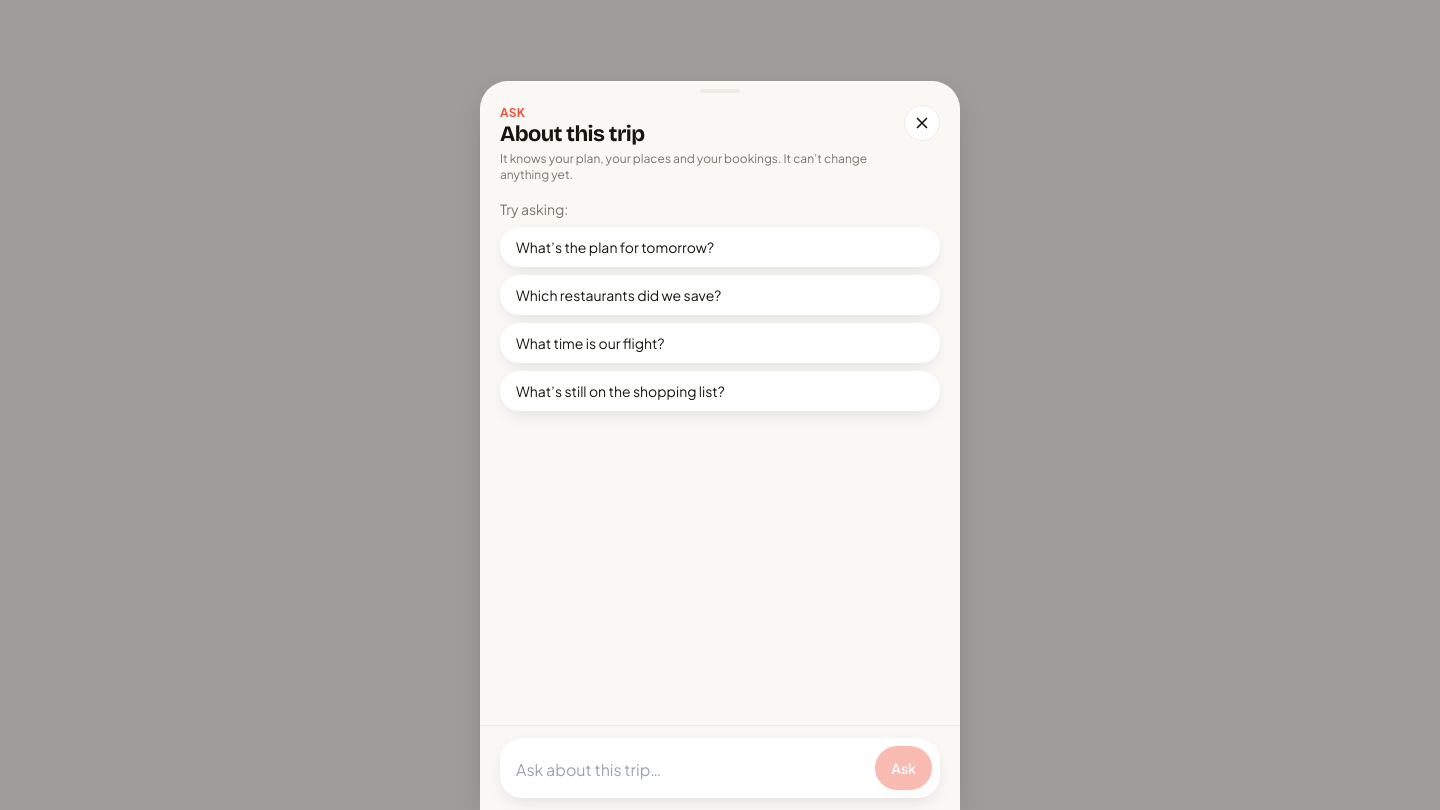
Test case: an empty conversation › puts a suggestion in the box when tapped
Click the button "What time is our flight?": (590, 342) x1=500 y1=322 x2=940 y2=362
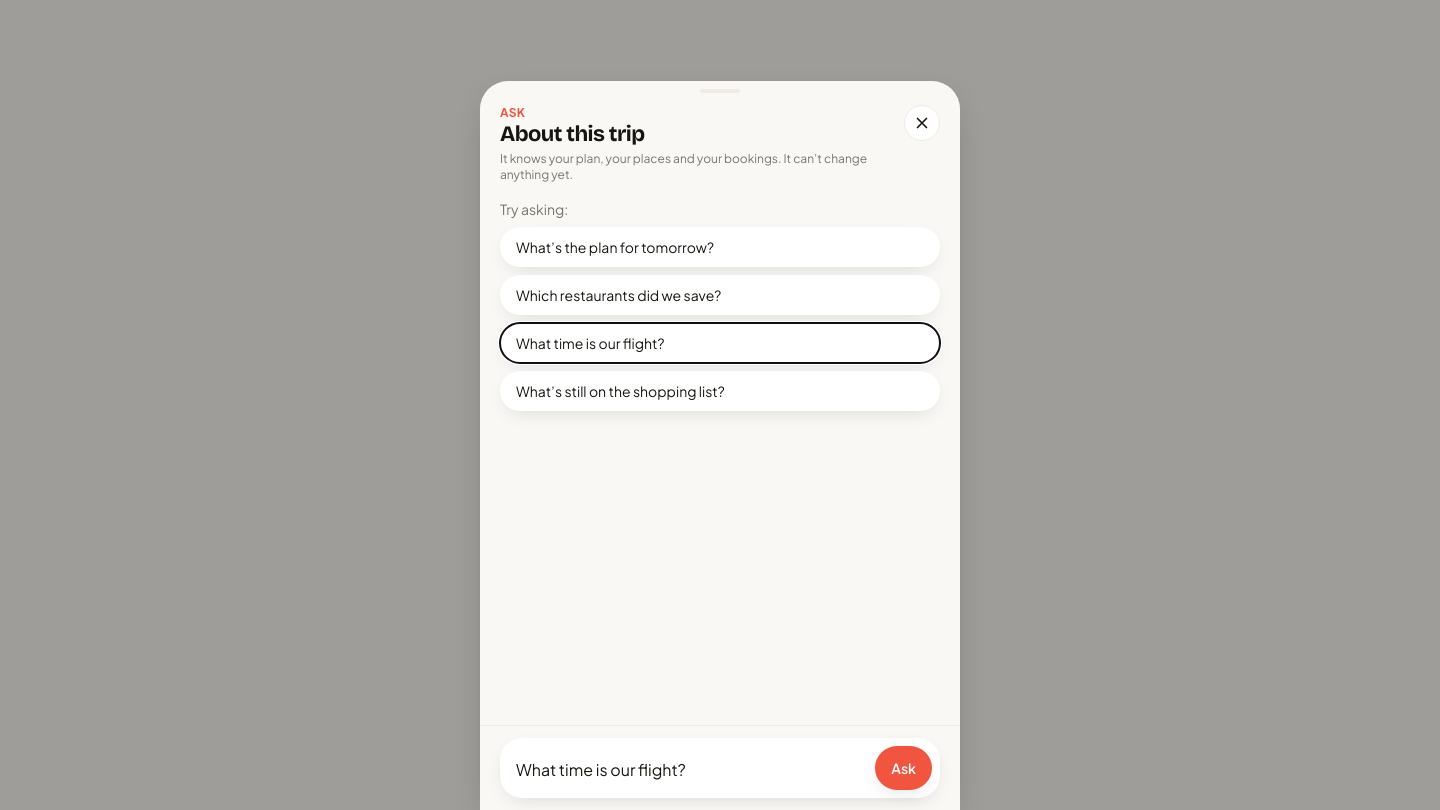
Check: the text box named "Ask about this trip" holds "What time is our flight?", box x1=508 y1=750 x2=867 y2=790
